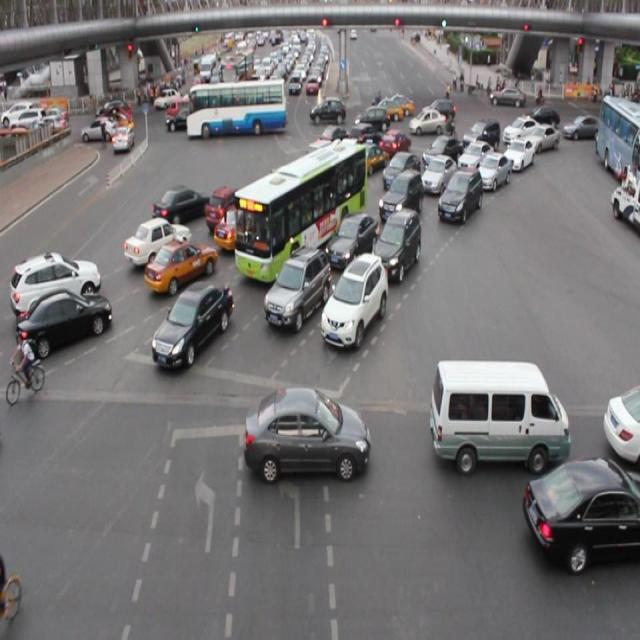BigCar: (236, 144, 368, 277), (192, 81, 302, 142)
car: (242, 372, 378, 492), (511, 479, 639, 590), (428, 368, 566, 470), (159, 274, 229, 375), (323, 254, 385, 365), (24, 292, 120, 357), (11, 251, 105, 306), (270, 246, 324, 332), (377, 212, 419, 282), (154, 184, 211, 227), (478, 142, 511, 206), (505, 129, 538, 192), (447, 170, 480, 222)
